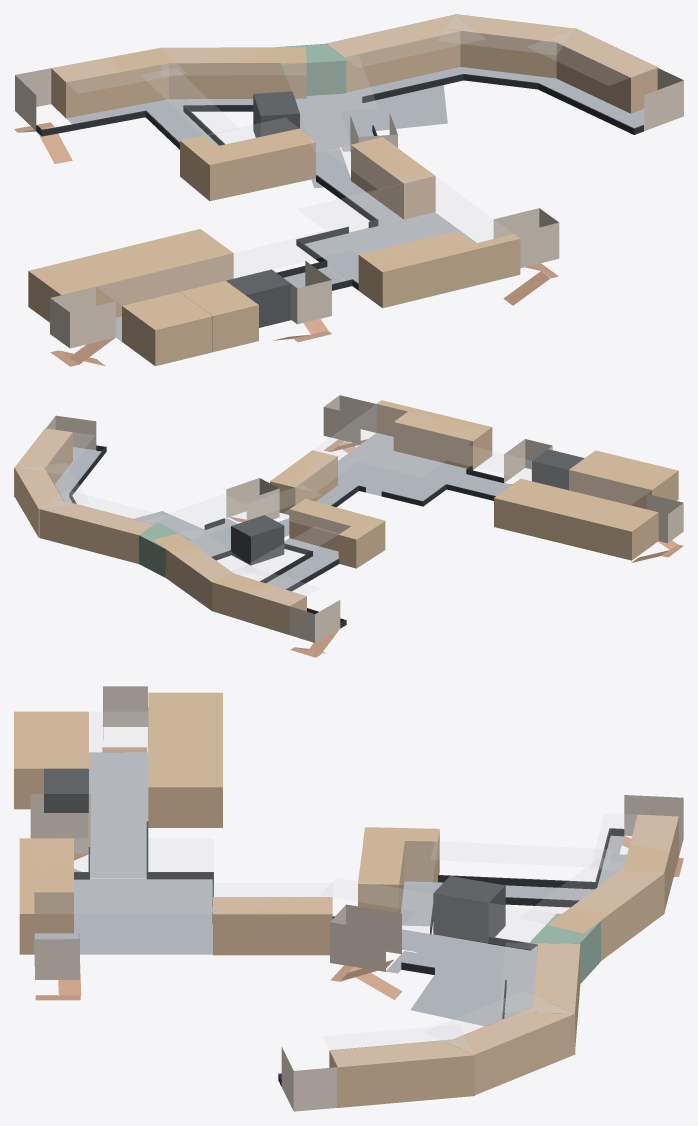
The picture shows the model from 3 angles, top to bottom: view 1: azimuth 30°, elevation 25°; view 2: azimuth 150°, elevation 25°; view 3: azimuth 270°, elevation 25°; orthographic projection. The views are drawn at different scales.
Parts seen in each view (by area): view 1: 立方體.176, 立方體.001, 立方體.177, 立方體.040, 立方體.098, 立方體.042, 立方體.110, 立方體.032, 立方體.117, 立方體.168, 立方體.164, 立方體.091 (+51 smaller); view 2: 立方體.176, 立方體.091, 立方體.040, 立方體.001, 立方體.177, 立方體.042, 立方體.067, 立方體.098, 立方體.168, 立方體.164, 立方體.032, 立方體.169 (+41 smaller); view 3: 立方體.176, 立方體.091, 立方體.039, 立方體.177, 立方體.042, 立方體.003, 立方體.168, 立方體.164, 立方體.002, 立方體.001, 立方體.169, 立方體.171 (+40 smaller).
Boxes of the visible parts, <box> form: 立方體.176: <box>297,176,512,253</box>; 立方體.001: <box>358,230,481,308</box>; 立方體.177: <box>97,231,350,305</box>; 立方體.040: <box>28,248,153,322</box>; 立方體.098: <box>122,292,212,366</box>; 立方體.042: <box>120,229,233,298</box>; 立方體.110: <box>169,63,306,99</box>; 立方體.032: <box>51,63,168,118</box>; 立方體.117: <box>327,31,460,92</box>; 立方體.168: <box>327,15,484,67</box>; 立方體.164: <box>282,55,377,112</box>; 立方體.091: <box>304,212,476,288</box>; 立方體.176: <box>315,404,480,476</box>; 立方體.091: <box>338,433,466,500</box>; 立方體.040: <box>558,494,658,560</box>; 立方體.001: <box>393,408,492,469</box>; 立方體.177: <box>448,445,650,504</box>; 立方體.042: <box>494,478,584,542</box>; 立方體.067: <box>39,509,138,563</box>; 立方體.098: <box>606,459,678,509</box>; 立方體.168: <box>41,490,165,534</box>; 立方體.164: <box>146,494,262,538</box>; 立方體.032: <box>212,582,306,634</box>; 立方體.169: <box>16,463,88,508</box>; 立方體.176: <box>35,839,213,913</box>; 立方體.091: <box>34,879,212,954</box>; 立方體.039: <box>88,752,148,878</box>; 立方體.177: <box>89,712,147,837</box>; 立方體.042: <box>148,743,222,827</box>; 立方體.003: <box>338,1055,474,1107</box>; 立方體.168: <box>500,943,579,1012</box>; 立方體.164: <box>402,894,554,950</box>; 立方體.002: <box>213,914,332,955</box>; 立方體.001: <box>19,838,73,933</box>; 立方體.169: <box>424,992,573,1054</box>; 立方體.171: <box>323,1025,473,1066</box>.
Size of the model in its own units: 60.81 by 6.01 by 44.75.
